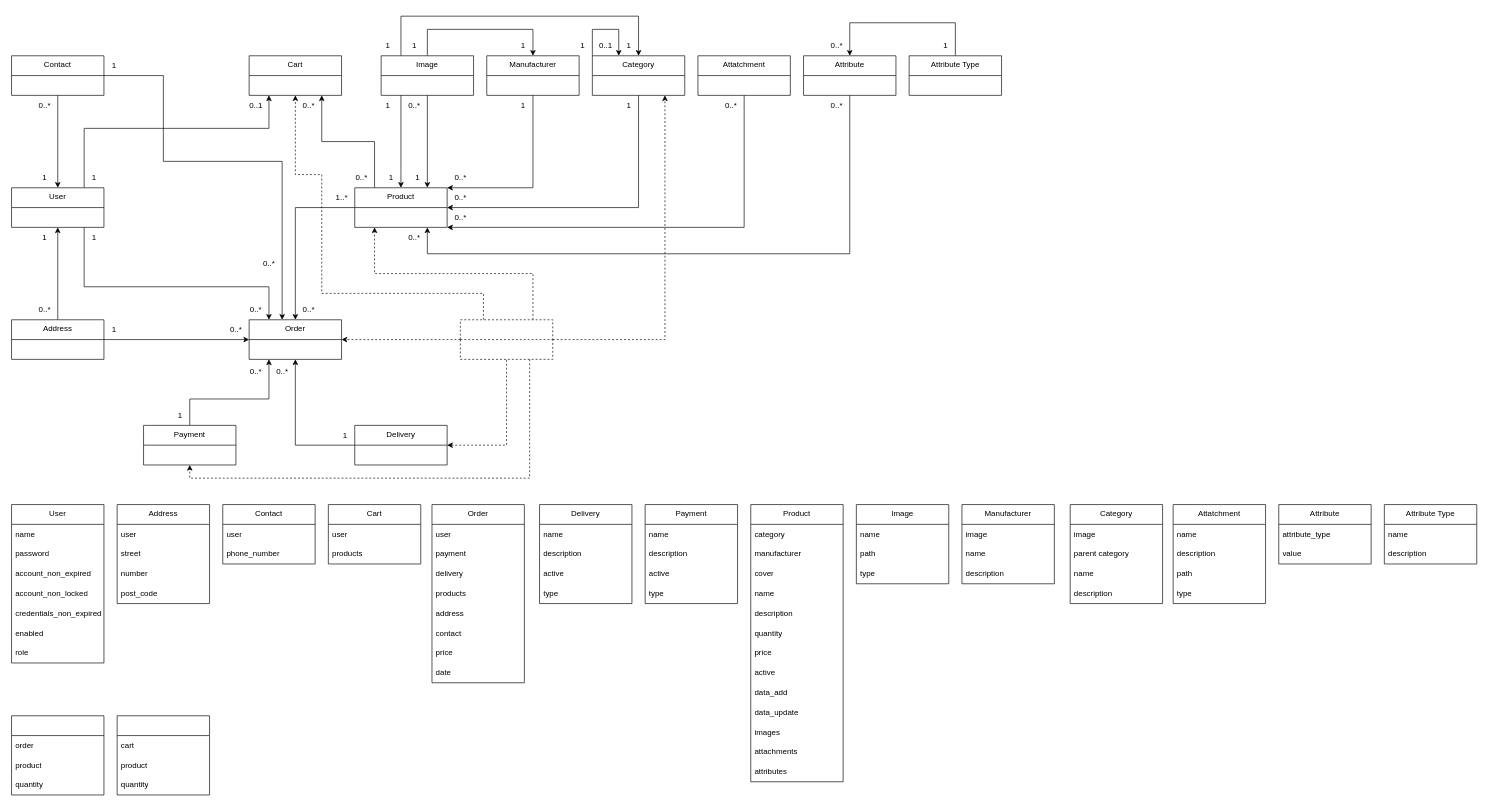
Image size: 1488x807. Some labels were removed from this diagram. The box of each missing label's shape, as (x1, y1, x2, y2) in pixels:
cart_product: (116, 715, 210, 795)
Discount: (460, 319, 553, 359)
order_product: (11, 715, 104, 795)
